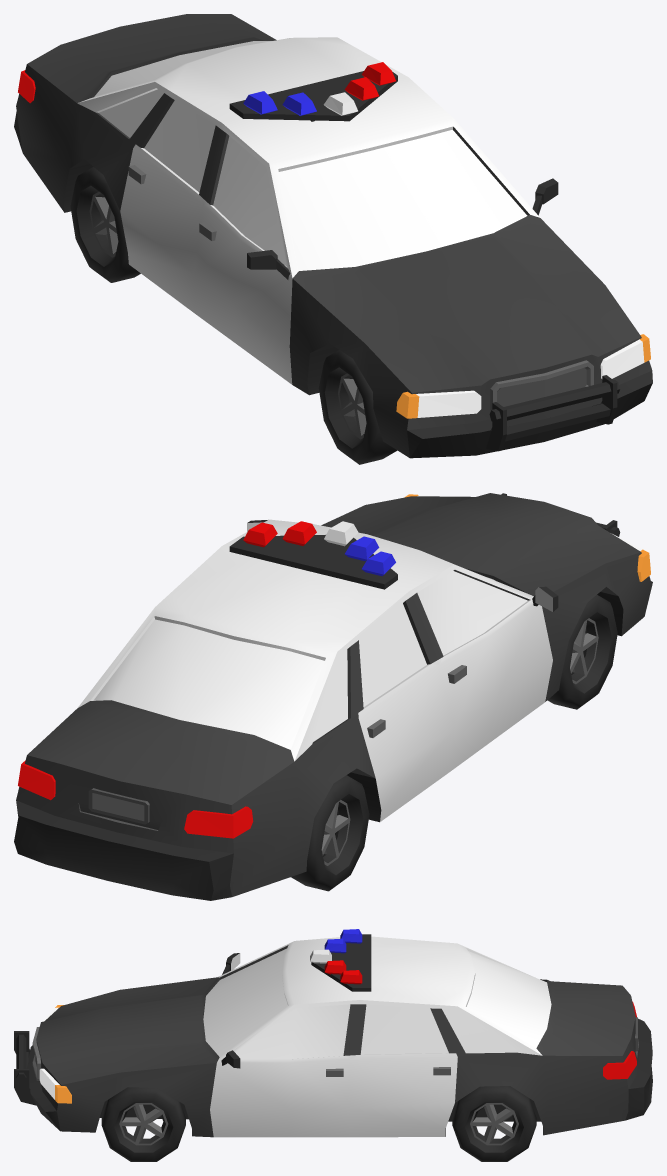
Rendered from police.glb.
The picture shows the model from 3 angles, top to bottom: view 1: azimuth 30°, elevation 25°; view 2: azimuth 150°, elevation 25°; view 3: azimuth 270°, elevation 25°; orthographic projection. The views are drawn at different scales.
Parts seen in each view (by area): view 1: police, wheels.028, wheels.029; view 2: police, wheels.029, wheels.028; view 3: police, wheels.030, wheels.031.
Part boxes in pixels (x1=…): police: x1=14, y1=14, x2=652, y2=458; wheels.028: x1=318, y1=350, x2=397, y2=464; wheels.029: x1=70, y1=167, x2=140, y2=282; police: x1=14, y1=493, x2=652, y2=900; wheels.029: x1=291, y1=775, x2=369, y2=891; wheels.028: x1=547, y1=595, x2=617, y2=709; police: x1=14, y1=929, x2=652, y2=1137; wheels.030: x1=452, y1=1086, x2=536, y2=1161; wheels.031: x1=101, y1=1087, x2=185, y2=1161.
Size of the model in its own units: 2.25 by 1.67 by 5.72.
Materials: 3 (2 with a texture image).
